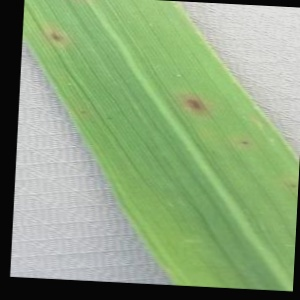Bacterial_Leaf_Blight: (178, 89, 214, 118), (45, 27, 72, 46), (172, 69, 187, 81), (237, 138, 252, 149), (102, 113, 115, 125), (78, 107, 89, 119), (289, 181, 299, 191)
